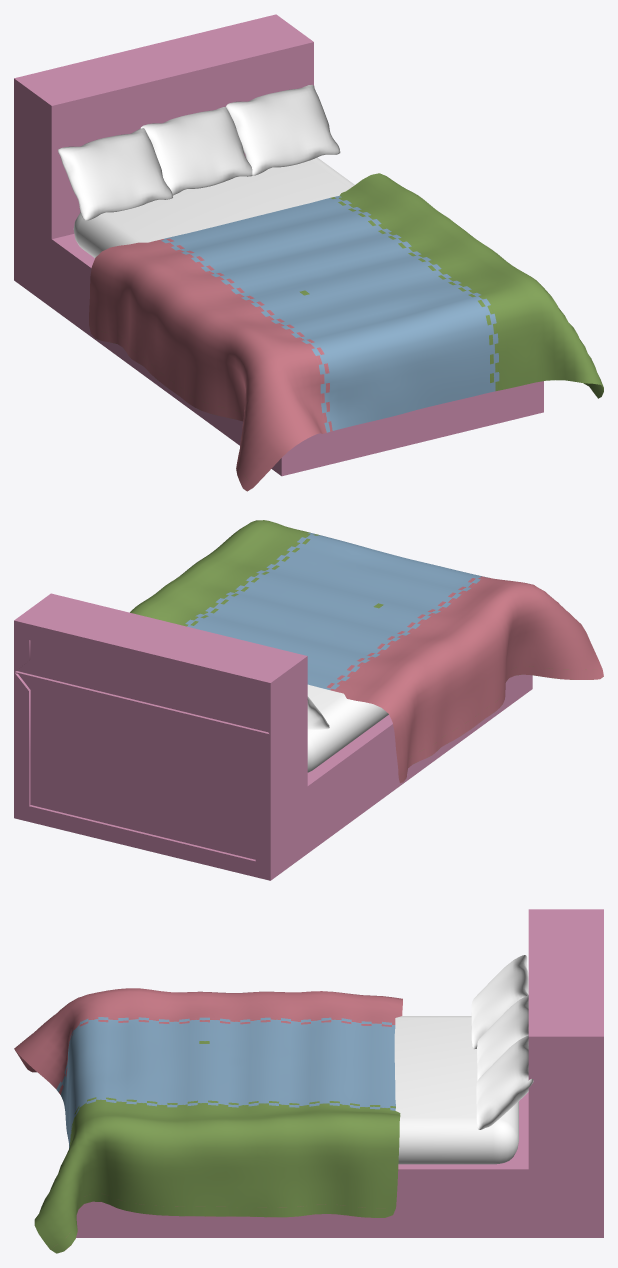
The model's file is Bed2.obj.
The picture shows the model from 3 angles, top to bottom: view 1: azimuth 30°, elevation 25°; view 2: azimuth 150°, elevation 25°; view 3: azimuth 270°, elevation 25°; orthographic projection. The views are drawn at different scales.
Parts seen in each view (by area): view 1: first:polySurface5; view 2: first:polySurface5; view 3: first:polySurface5.
Part boxes in pixels (x1,y1,x2,y2): first:polySurface5: (14, 14, 603, 491); first:polySurface5: (14, 520, 603, 880); first:polySurface5: (14, 909, 603, 1253).
Bounding box in the file's own units: 10.58 × 5.62 × 14.93.
6 materials, 6 textured.
